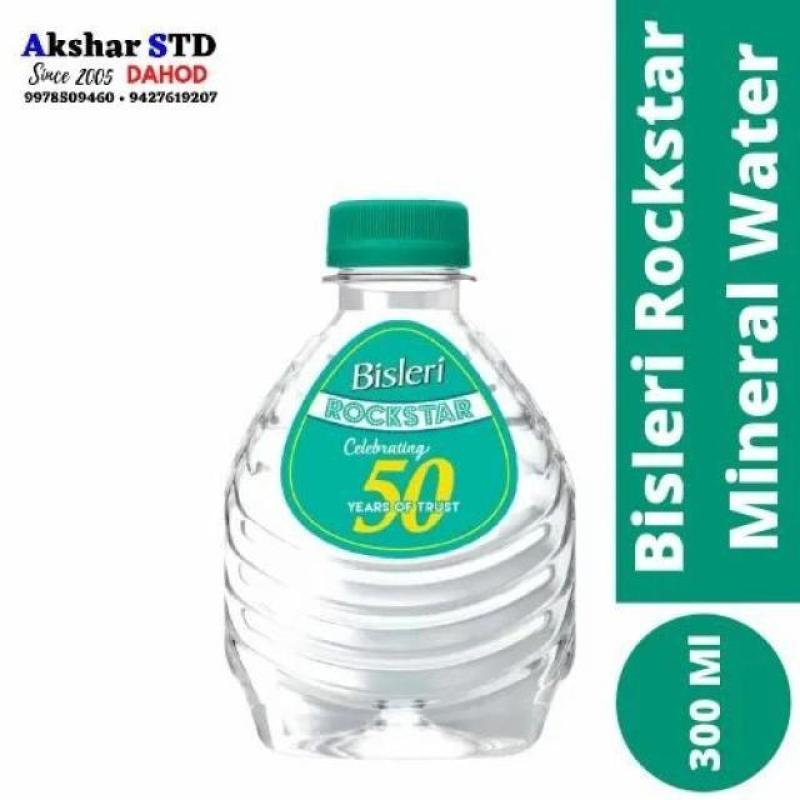botella: (220, 197, 580, 762)
